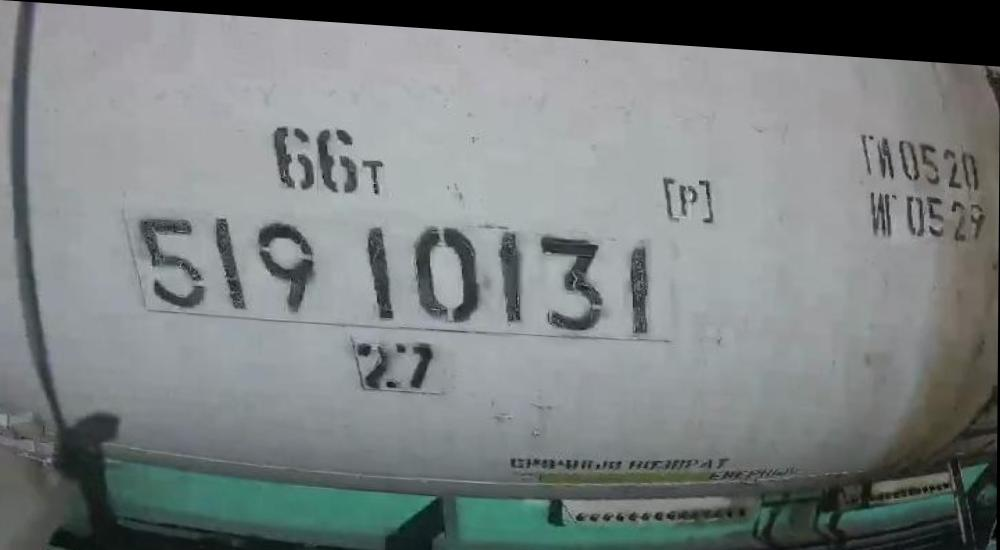Wagon-number: (134, 200, 666, 335)
